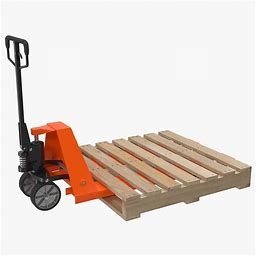Pallet Jack: (4, 34, 252, 224)
